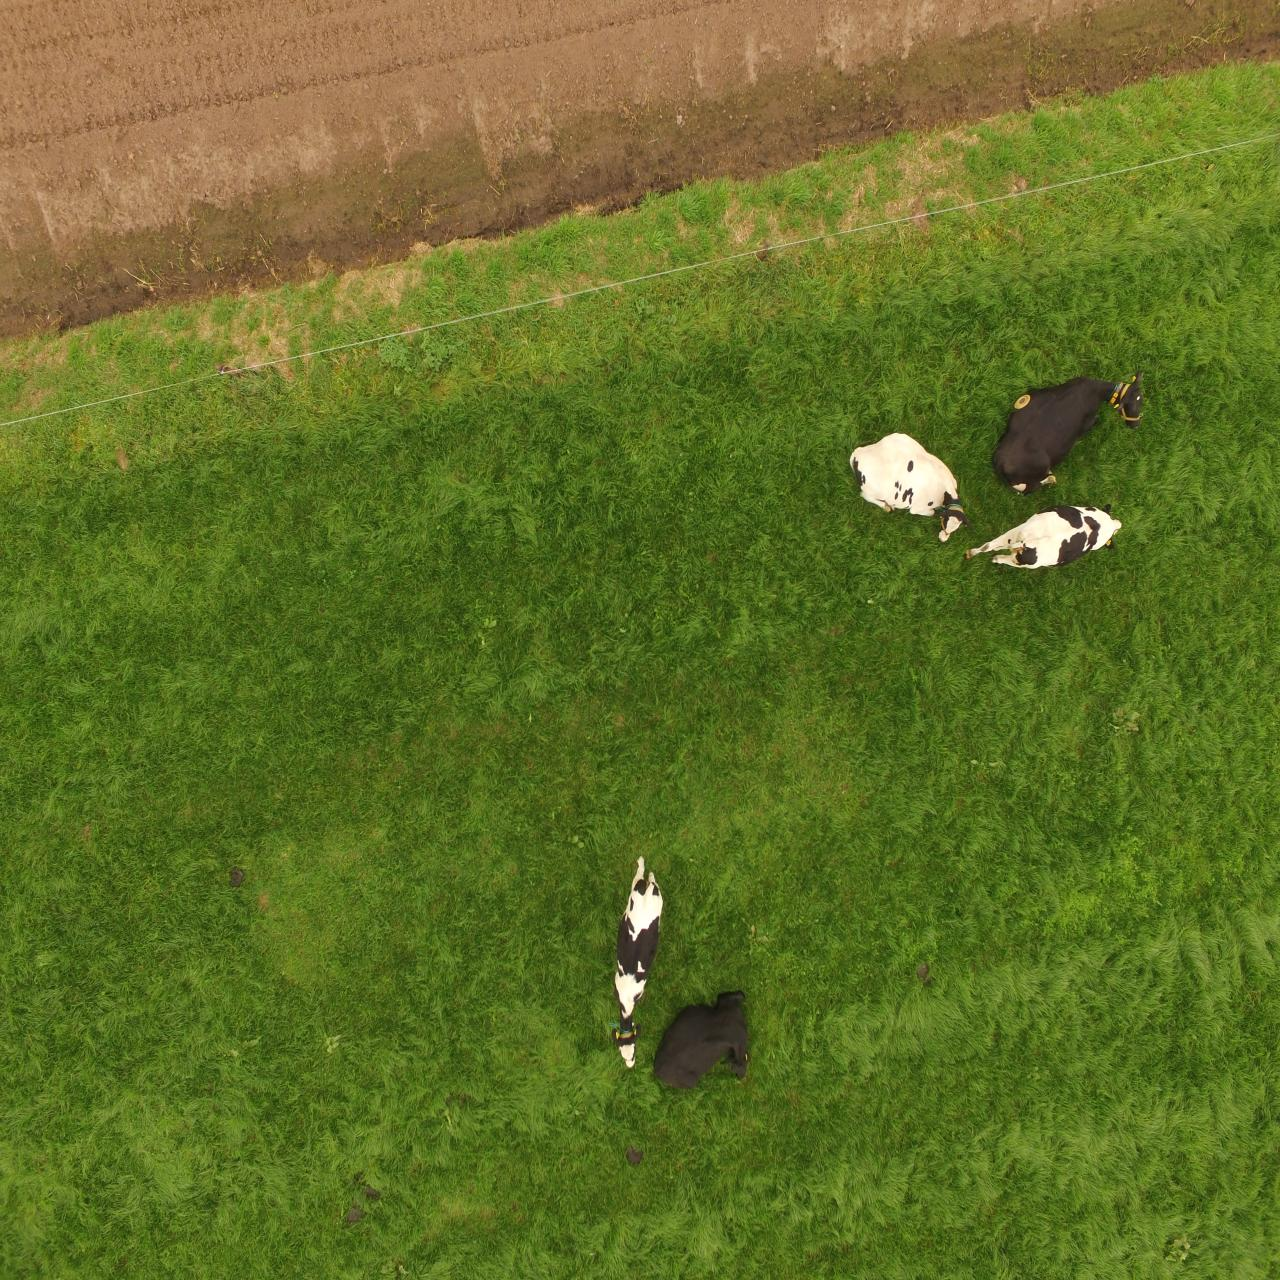cow: (976, 359, 1167, 479), (586, 860, 672, 1103), (649, 987, 770, 1119), (840, 428, 972, 543), (964, 504, 1136, 579)
